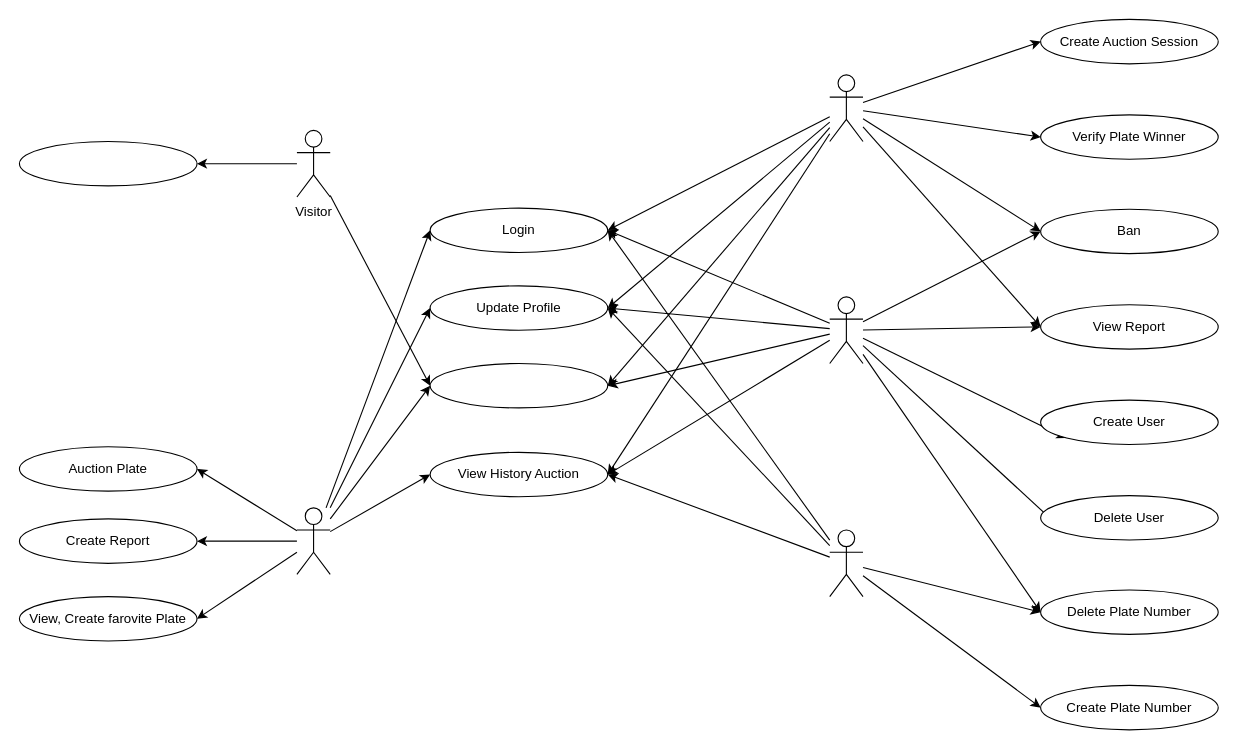
The diagram is 1238 pixels wide and 749 high, and some of its shapes have lost their labels. Here are the shapes that lost their labels. From the top down, the box of each, then its label:
(829, 74, 863, 142): Actioneer
(18, 140, 197, 186): Register
(829, 296, 863, 364): Admin
(429, 362, 608, 408): Search, View
(296, 507, 330, 574): User
(829, 529, 863, 597): Provider
